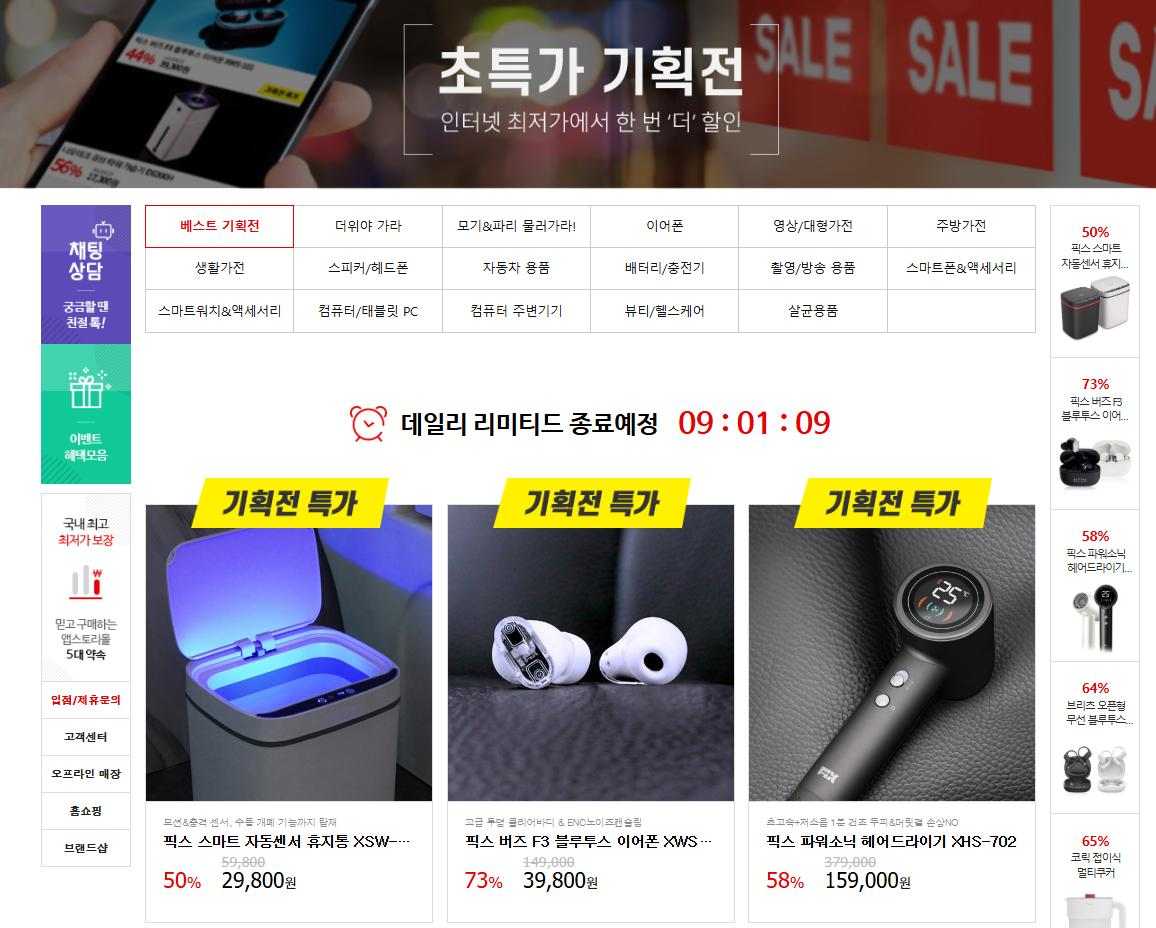button: (315, 203, 428, 241), (311, 296, 427, 330), (461, 294, 578, 324), (318, 252, 426, 284), (462, 213, 576, 242), (154, 296, 286, 321), (895, 256, 1027, 281), (758, 209, 857, 241), (620, 208, 700, 245), (614, 254, 712, 284), (174, 216, 272, 244), (760, 256, 872, 279), (618, 299, 721, 322), (479, 254, 563, 280), (775, 298, 850, 324), (929, 212, 1001, 237), (189, 258, 260, 281)
popup: (0, 0, 1155, 188), (1051, 203, 1141, 928), (41, 204, 130, 866)
